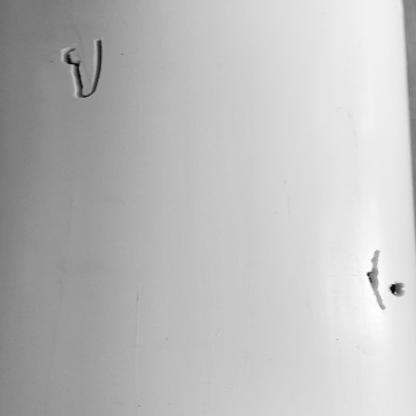fengxi: (62, 38, 107, 100)
kongdong: (363, 243, 390, 314), (383, 276, 416, 302)
